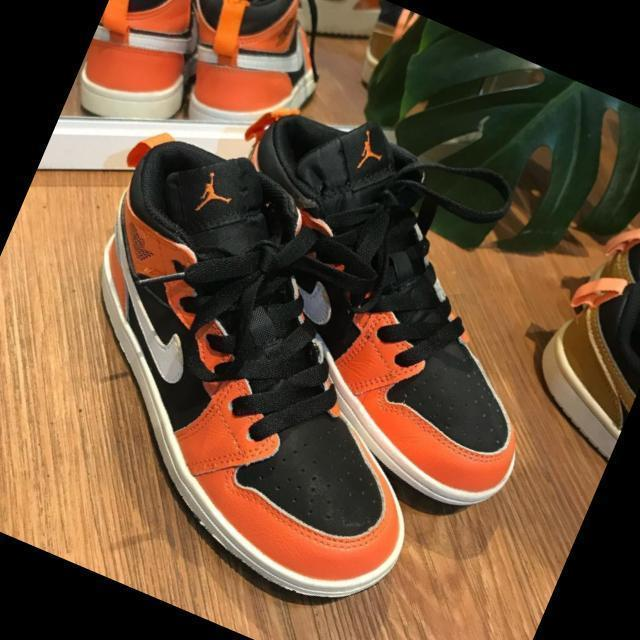nike fake jordan 1: (0, 117, 519, 628), (145, 87, 620, 534), (62, 0, 249, 152)
